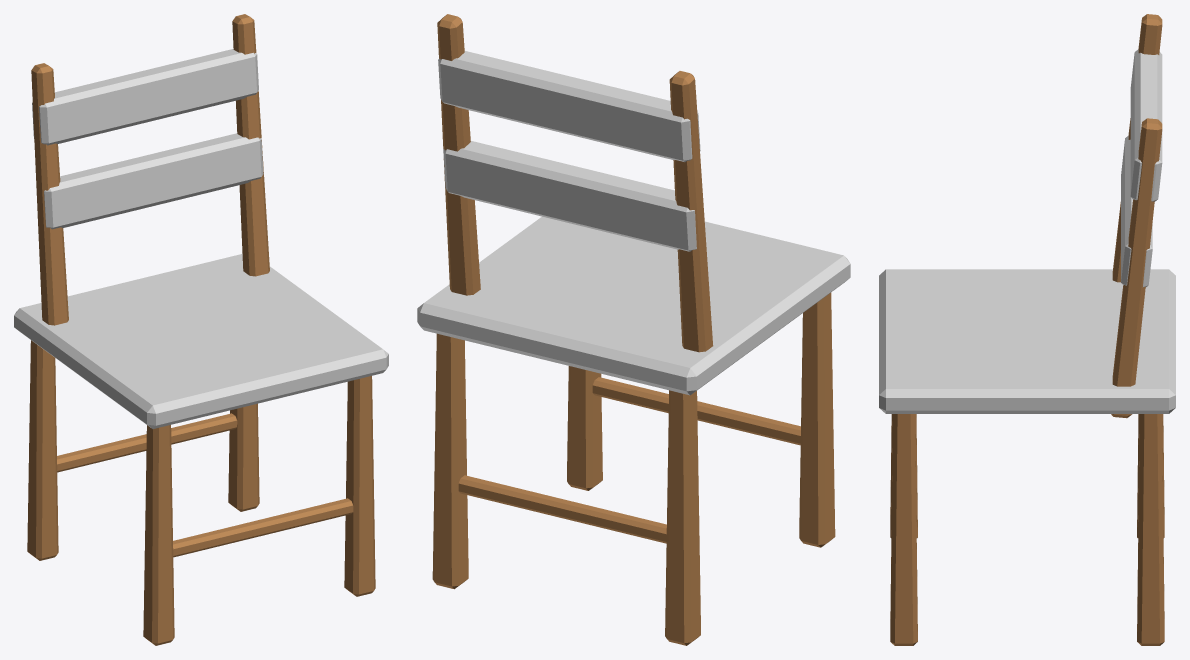
The model's file is kids-chair-sm2.glb.
The picture shows the model from 3 angles, left to right: view 1: azimuth 30°, elevation 25°; view 2: azimuth 150°, elevation 25°; view 3: azimuth 270°, elevation 25°; orthographic projection. The views are drawn at different scales.
Visible parts, largest first — view 1: kids-chair-sm2.tint, kids-chair-sm2.wood; view 2: kids-chair-sm2.tint, kids-chair-sm2.wood; view 3: kids-chair-sm2.tint, kids-chair-sm2.wood.
Part boxes in pixels (x1,y1,x2,y2): kids-chair-sm2.tint: (14, 49, 388, 428); kids-chair-sm2.wood: (27, 14, 375, 645); kids-chair-sm2.tint: (417, 51, 850, 395); kids-chair-sm2.wood: (432, 14, 835, 645); kids-chair-sm2.tint: (879, 49, 1175, 413); kids-chair-sm2.wood: (890, 14, 1164, 645).
Bounding box in the file's own units: 0.32 × 0.62 × 0.32.
